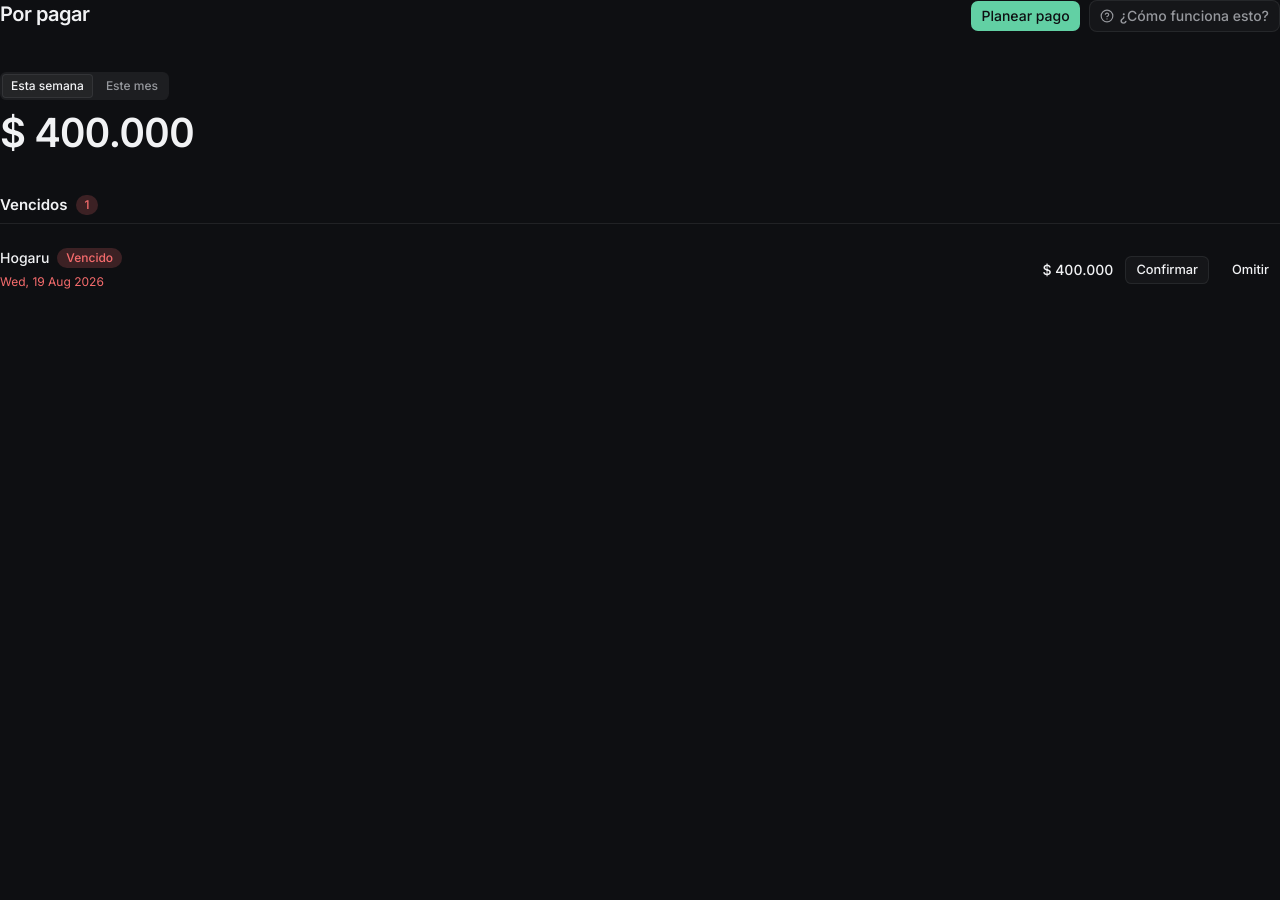
Scenario: 012 — confirming a payment says which account it came out of › The confirmation offers the account it was planned against
Click the button "Confirmar" at coordinates (1167, 270), box [1125,256,1209,284]
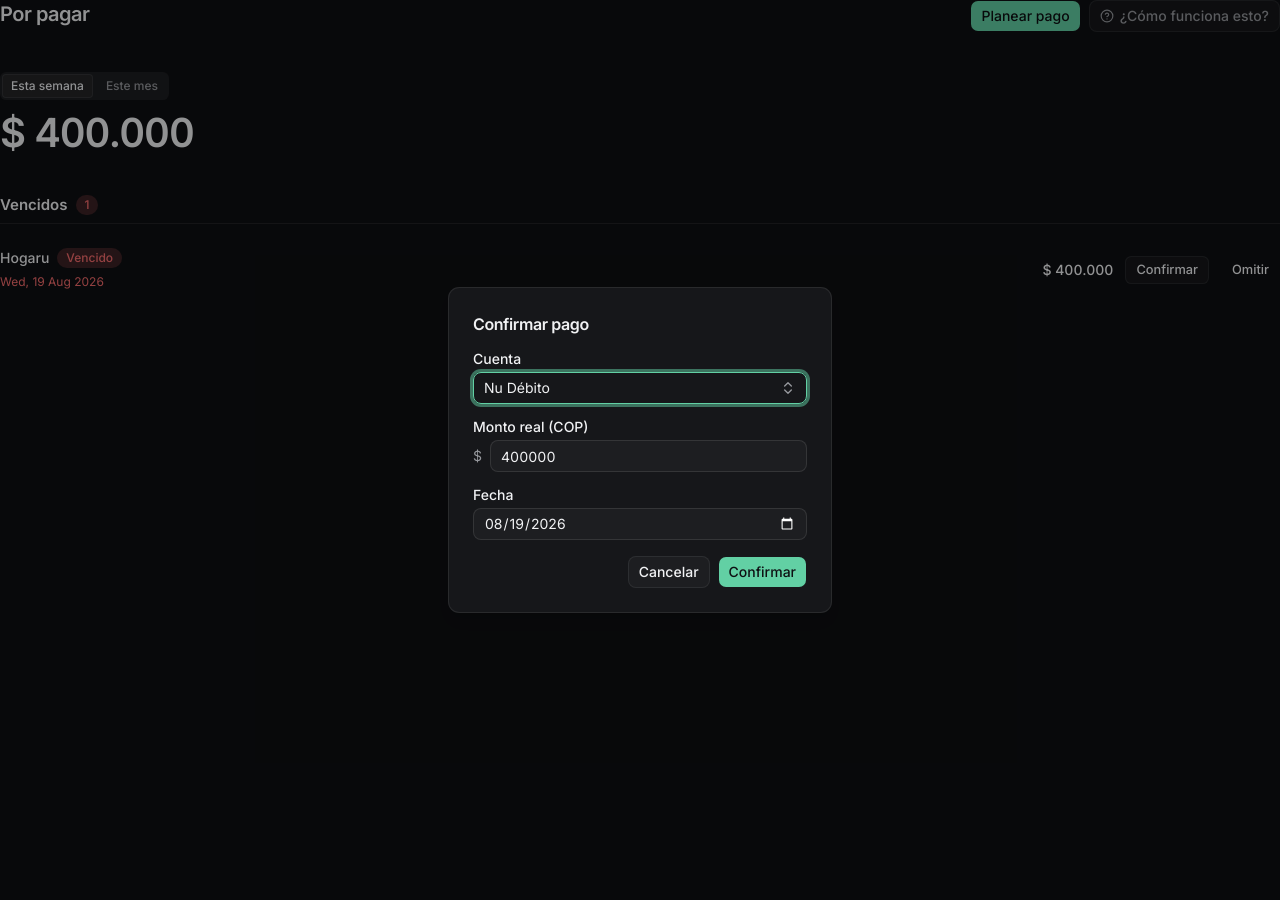
Expected: the dropdown named "Cuenta" reads "Nu Débito", [473,372,807,404]
